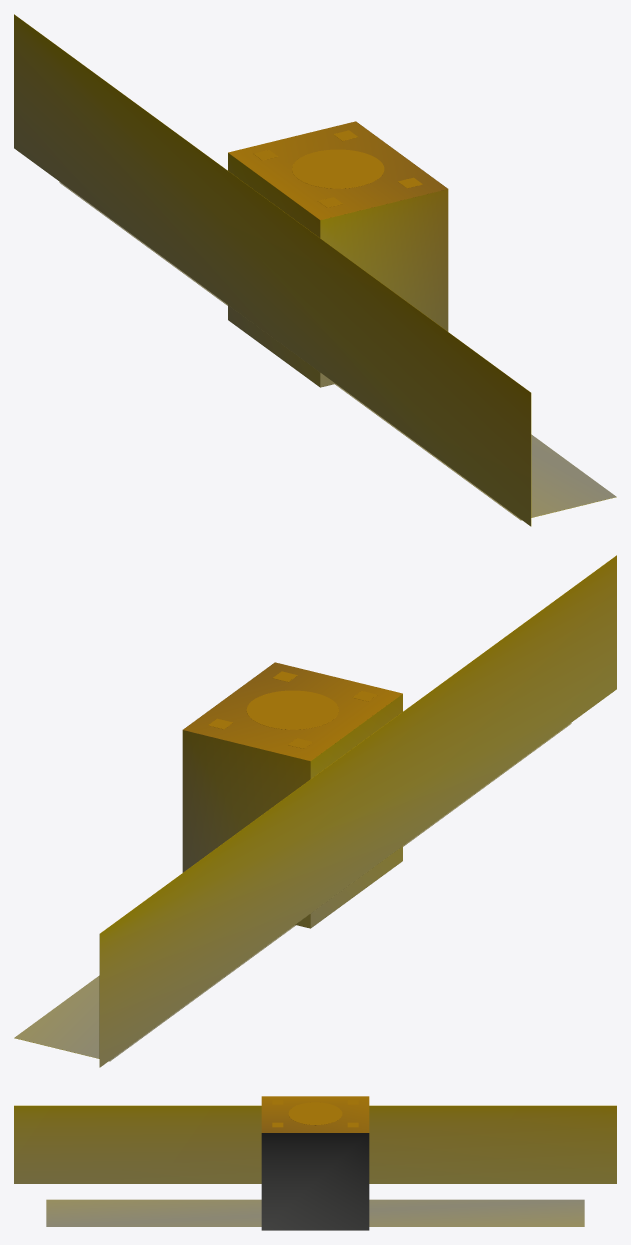
File: simplesat_rotated2.glb
3 renders of one model, top to bottom at view 1: azimuth 30°, elevation 25°; view 2: azimuth 150°, elevation 25°; view 3: azimuth 270°, elevation 25°, orthographic. The views are drawn at different scales.
Visible parts, largest first — view 1: geogebra; view 2: geogebra; view 3: geogebra.
Boxes of the visible parts, x1,y1,x2,y2 form: geogebra: [14, 14, 616, 526]; geogebra: [14, 555, 616, 1067]; geogebra: [14, 1096, 616, 1230].
Bounding box in the file's own units: 2028 × 2554 × 14003.
